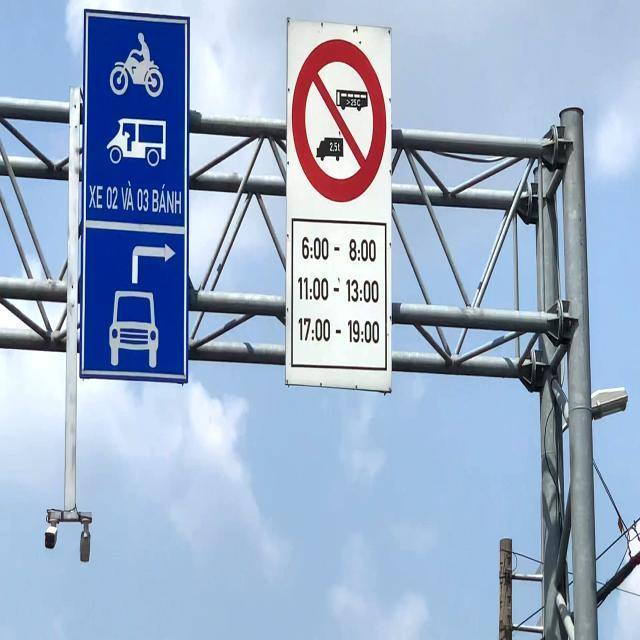Bien bao cam xe oto khach va xe oto tai: (284, 32, 392, 205)
